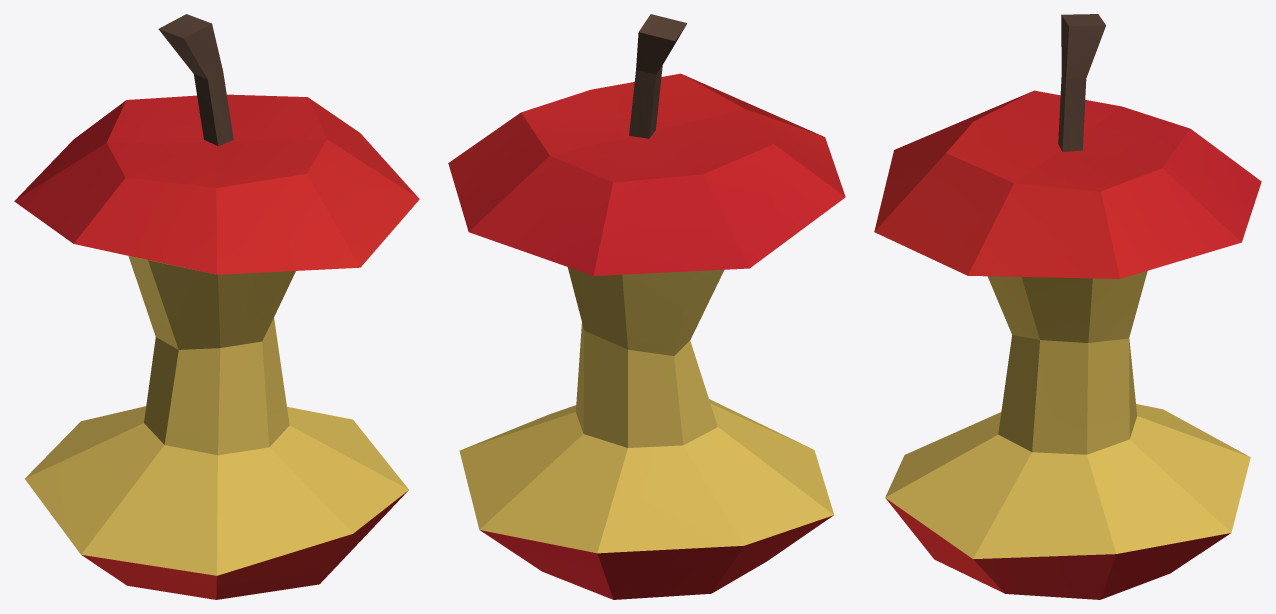
Rendered from apple.fbx.
The picture shows the model from 3 angles, left to right: view 1: azimuth 30°, elevation 25°; view 2: azimuth 150°, elevation 25°; view 3: azimuth 270°, elevation 25°; orthographic projection. The views are drawn at different scales.
Parts seen in each view (by area): view 1: apple-core; view 2: apple-core; view 3: apple-core.
Part boxes in pixels (<box>): apple-core: <box>14,14,419,599</box>; apple-core: <box>448,14,845,599</box>; apple-core: <box>874,14,1261,599</box>.
Bounding box in the file's own units: 9.25 × 14.15 × 9.25.
1 material, 1 textured.
